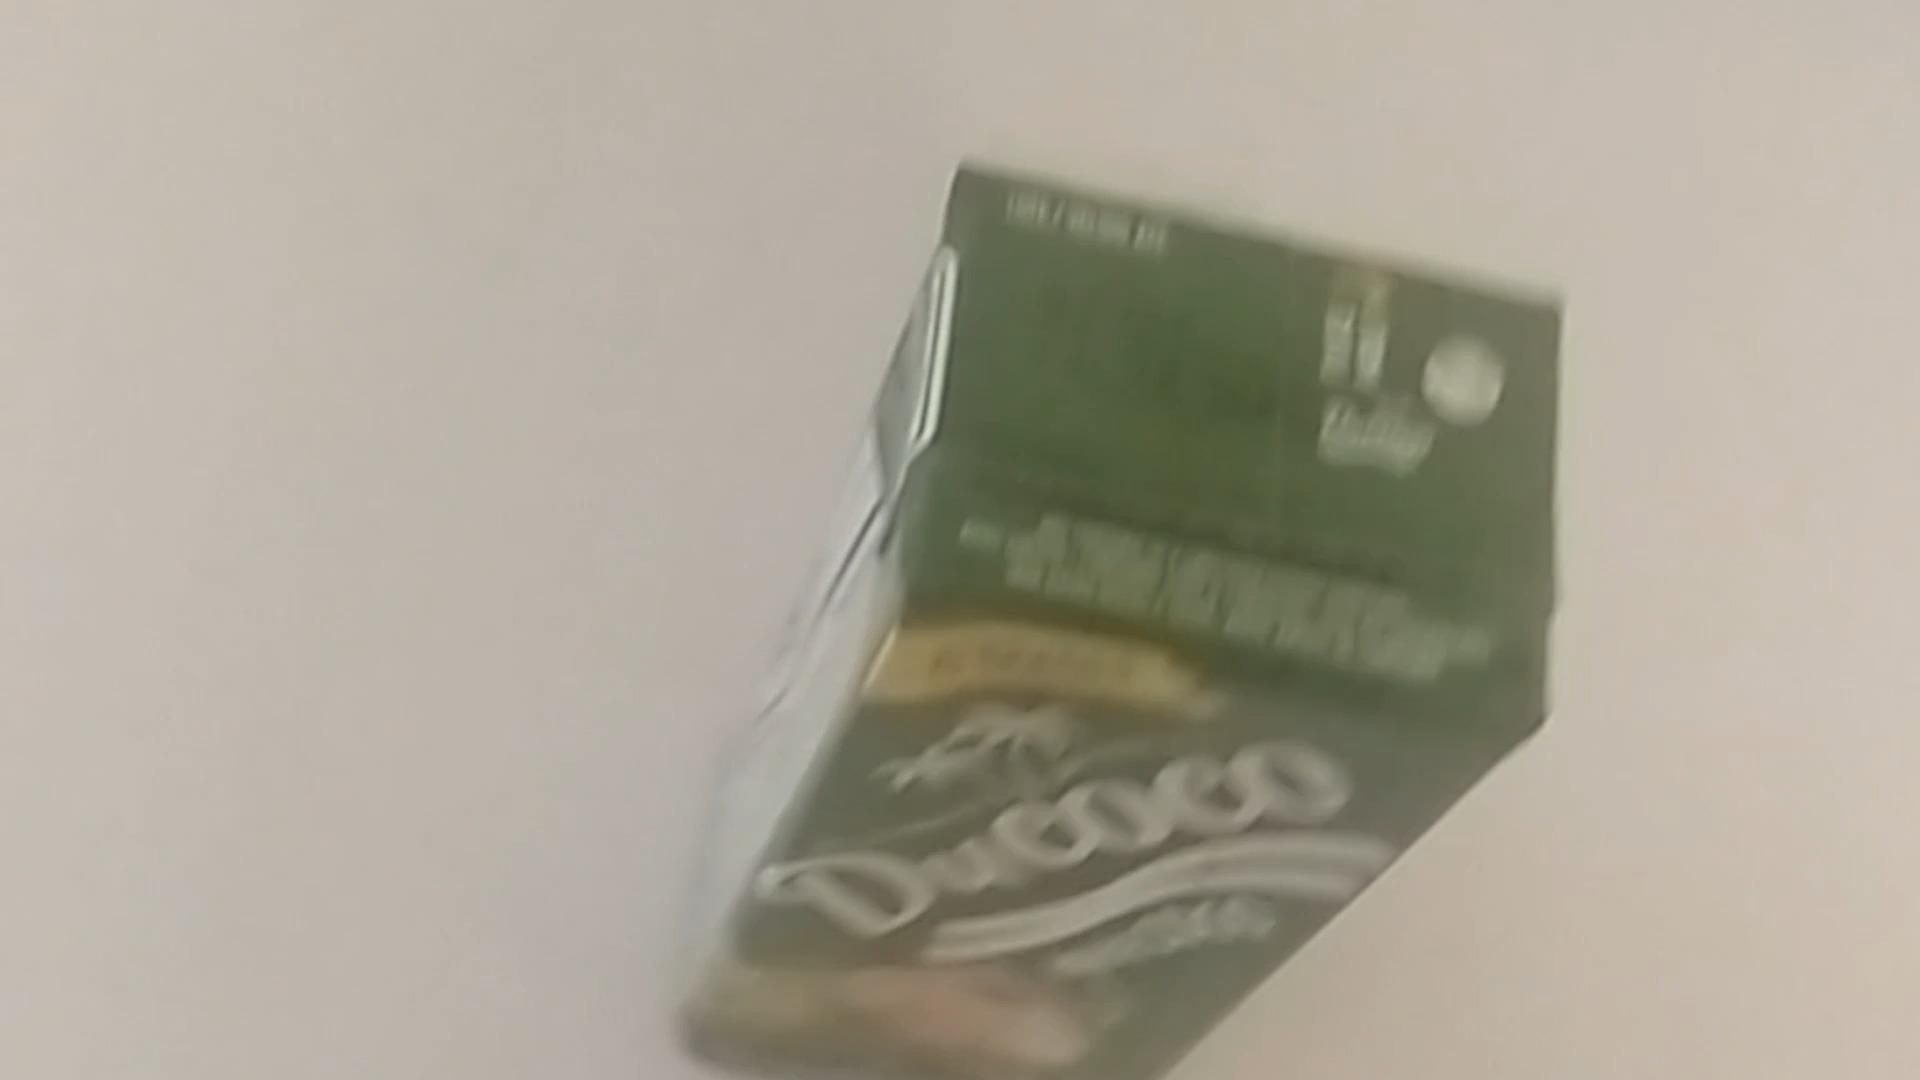coco: (642, 153, 1600, 1080)
